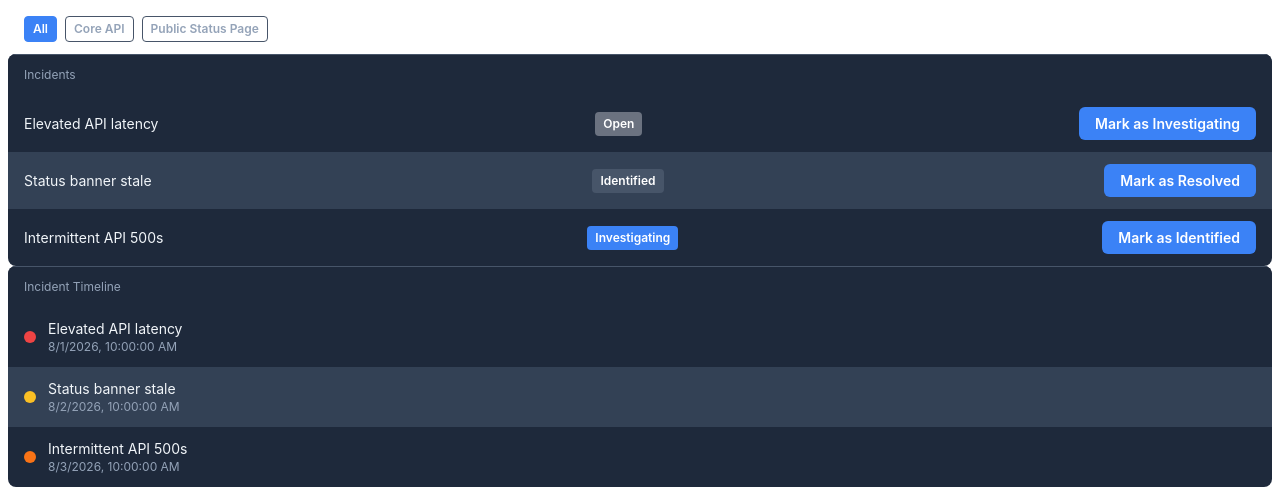
it: component filter shared state (IncidentList + Timeline) › switching back to 'all' restores the full incident set in both views
Click the button with test id "component-filter-option-comp-web" at (205, 29), box [142,16,268,42]
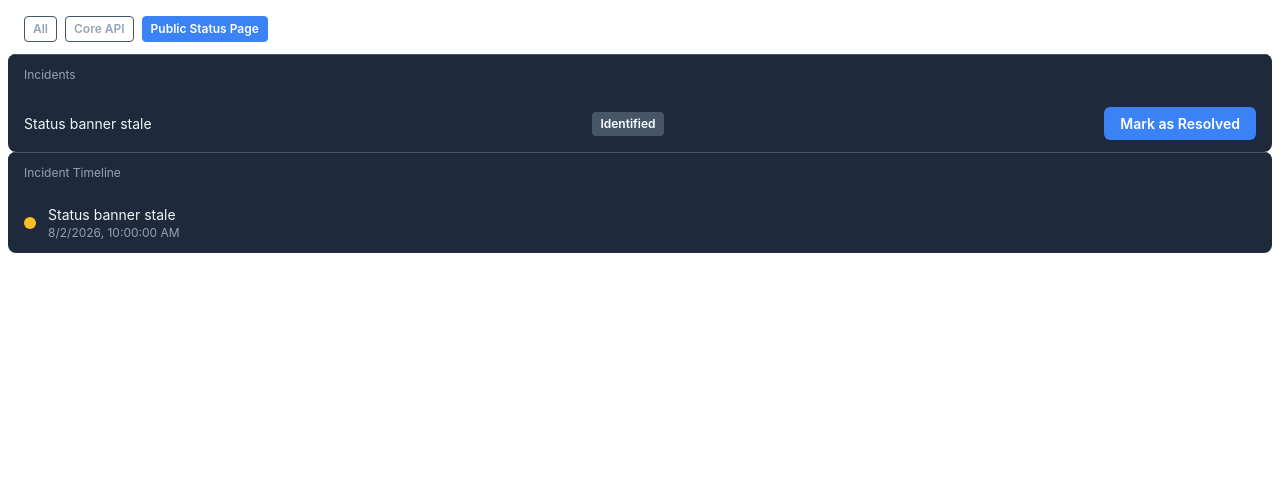
Check: the number of elements with test id "incident-list-item" is 1, box [24,107,1256,140]
Check: the number of elements with test id "timeline-entry" is 1, box [24,206,180,240]
Click the button with test id "component-filter-option-all" at (40, 29), box [24,16,57,42]
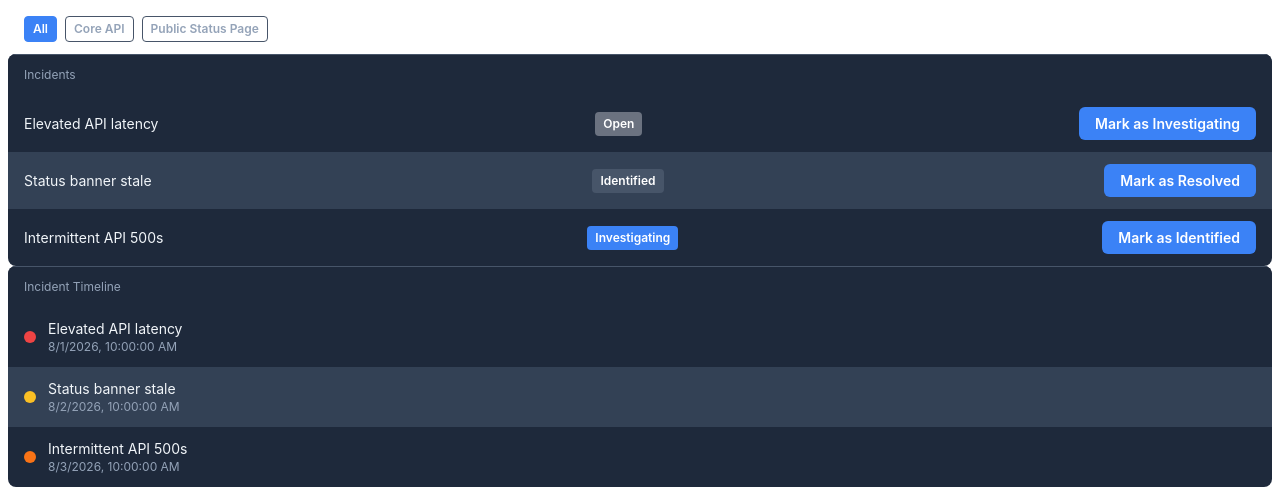
Check: the number of elements with test id "incident-list-item" is 3, box [24,107,1256,140]; [8,152,1272,209]; [24,221,1256,254]
Check: the number of elements with test id "timeline-entry" is 3, box [24,320,182,354]; [8,367,1272,427]; [24,440,187,474]
